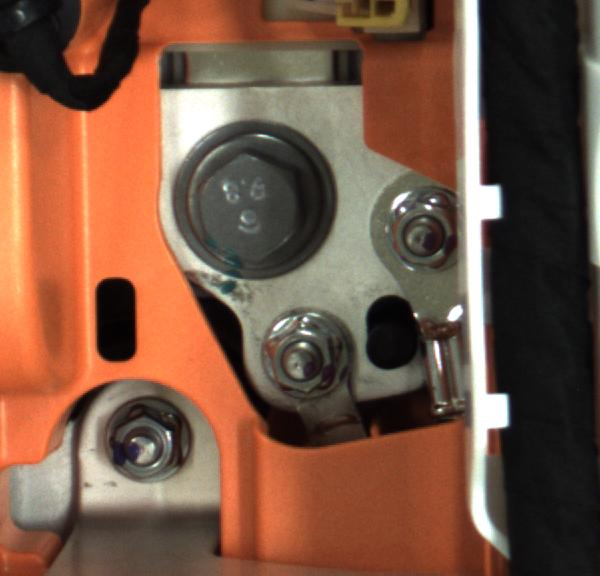nut_b: (166, 118, 320, 278)
screw_s: (81, 395, 194, 493), (252, 304, 349, 405), (376, 178, 455, 280)
